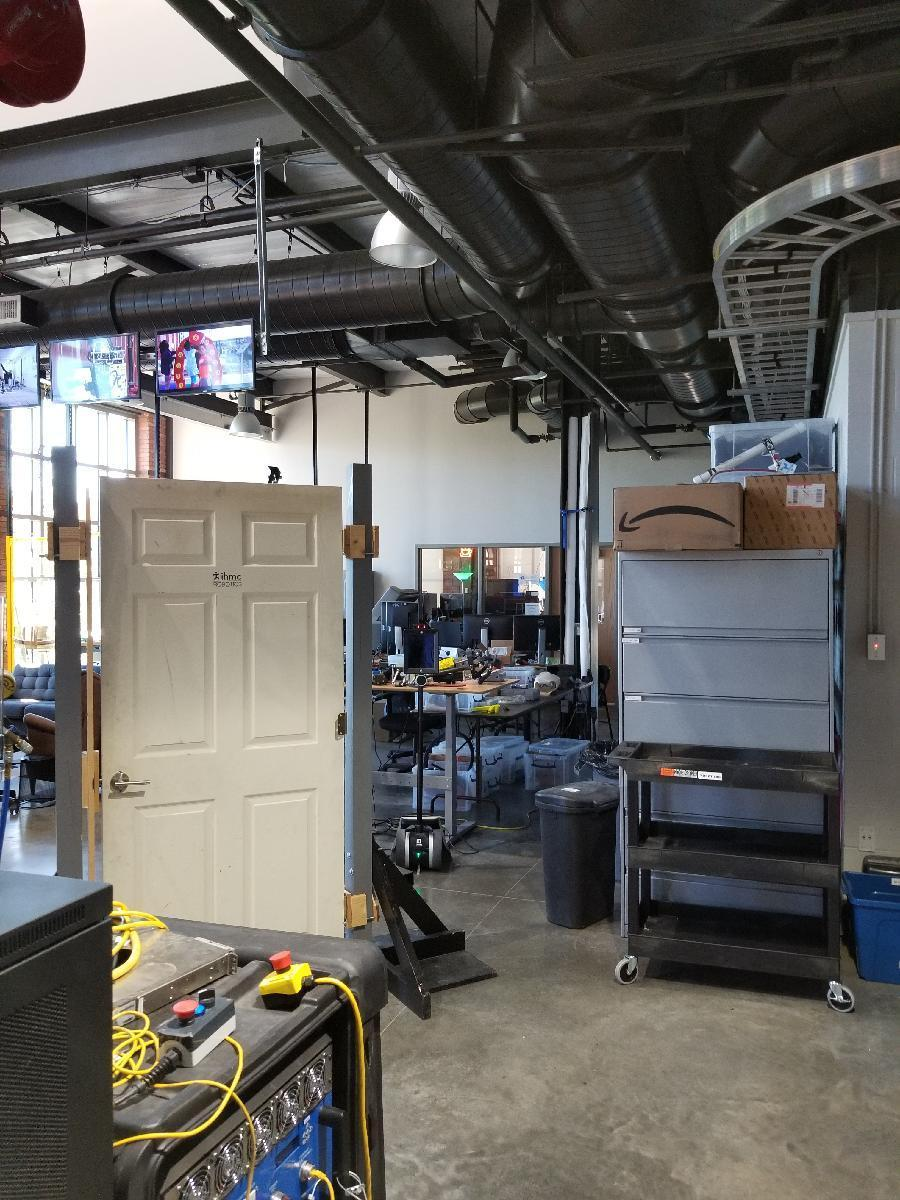door: (101, 478, 346, 1015)
handle: (105, 766, 155, 802)
